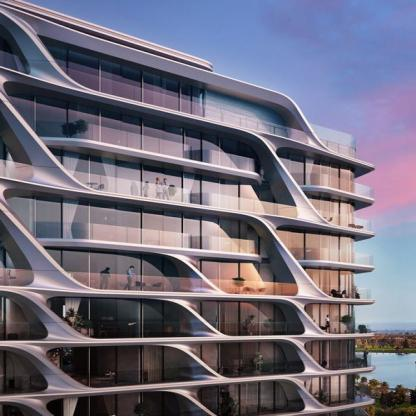Balcony: (60, 67, 308, 144), (27, 121, 261, 177), (67, 170, 300, 219), (22, 221, 260, 254), (67, 366, 220, 388), (67, 322, 220, 338), (290, 173, 374, 198), (0, 375, 87, 397), (208, 361, 305, 379), (208, 399, 306, 416), (206, 322, 324, 336), (287, 248, 374, 266), (314, 383, 371, 407), (0, 322, 67, 342), (309, 123, 356, 150), (316, 210, 371, 232), (314, 352, 371, 370), (0, 159, 35, 182), (317, 286, 371, 300), (0, 51, 30, 75), (314, 322, 371, 334), (0, 268, 34, 286), (158, 410, 212, 416)
Building Outline: (0, 0, 376, 416)
Facade: (0, 0, 376, 416)
Glass Wall: (8, 94, 260, 176), (47, 148, 277, 215), (6, 196, 260, 255), (39, 37, 205, 118), (44, 248, 179, 292), (51, 297, 180, 338), (46, 346, 163, 388), (276, 151, 355, 193), (46, 392, 180, 416), (197, 259, 286, 295), (200, 342, 289, 378), (198, 381, 288, 416), (201, 301, 289, 336), (276, 227, 355, 264), (305, 193, 354, 228), (302, 268, 354, 299), (304, 374, 354, 406), (305, 303, 355, 334), (305, 339, 355, 369), (0, 350, 31, 394), (0, 297, 27, 340), (0, 241, 16, 286), (0, 36, 18, 71), (310, 409, 354, 416), (0, 404, 23, 416), (0, 138, 7, 177)
